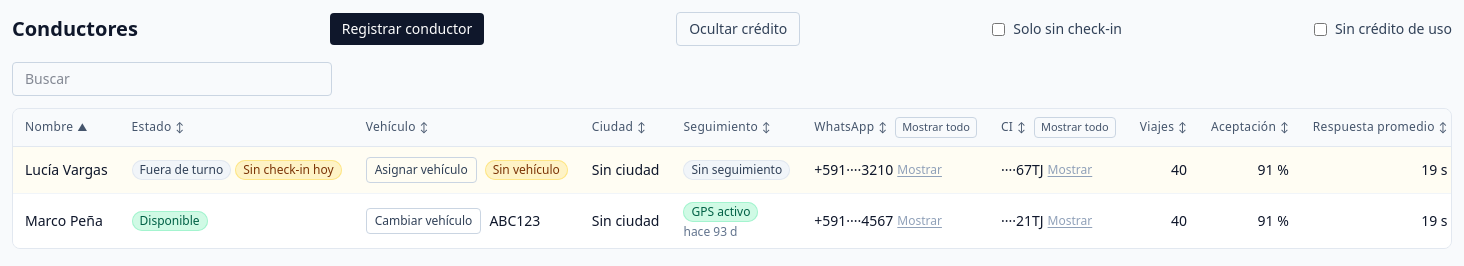
privacidad › el valor completo se revela fila por fila, de forma deliberada
Click the button with aria-label "Mostrar: +591····4567" at (920,221), box [897,213,942,229]
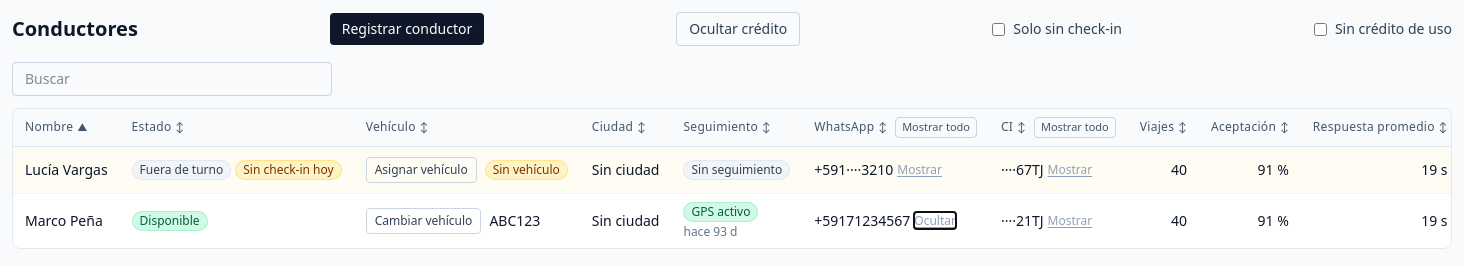
Expected: the text "····21TJ" is shown, [1001,211,1044,231]
Expected: the text "+59171234567" is shown, [814,211,910,231]
